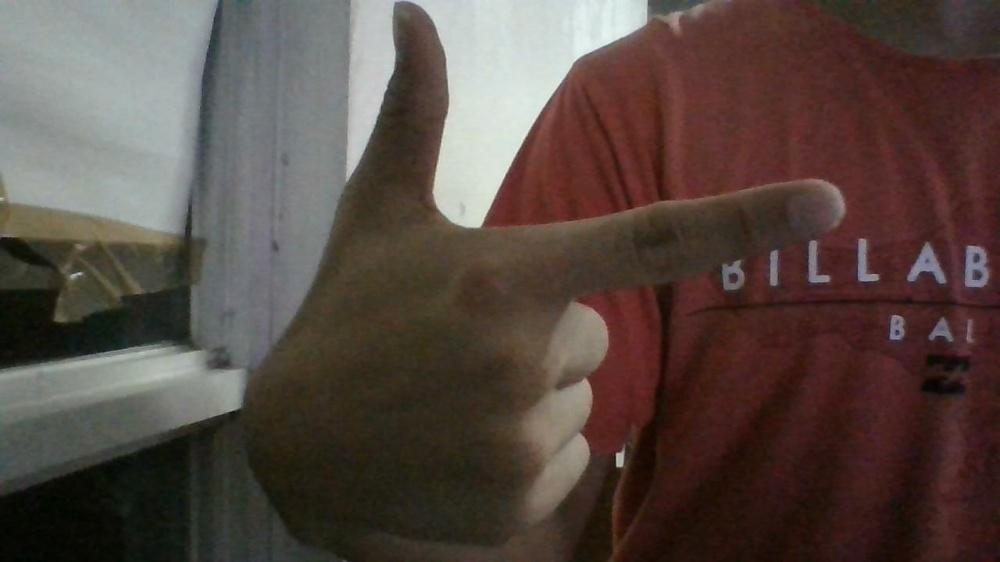g: (234, 1, 846, 549)
